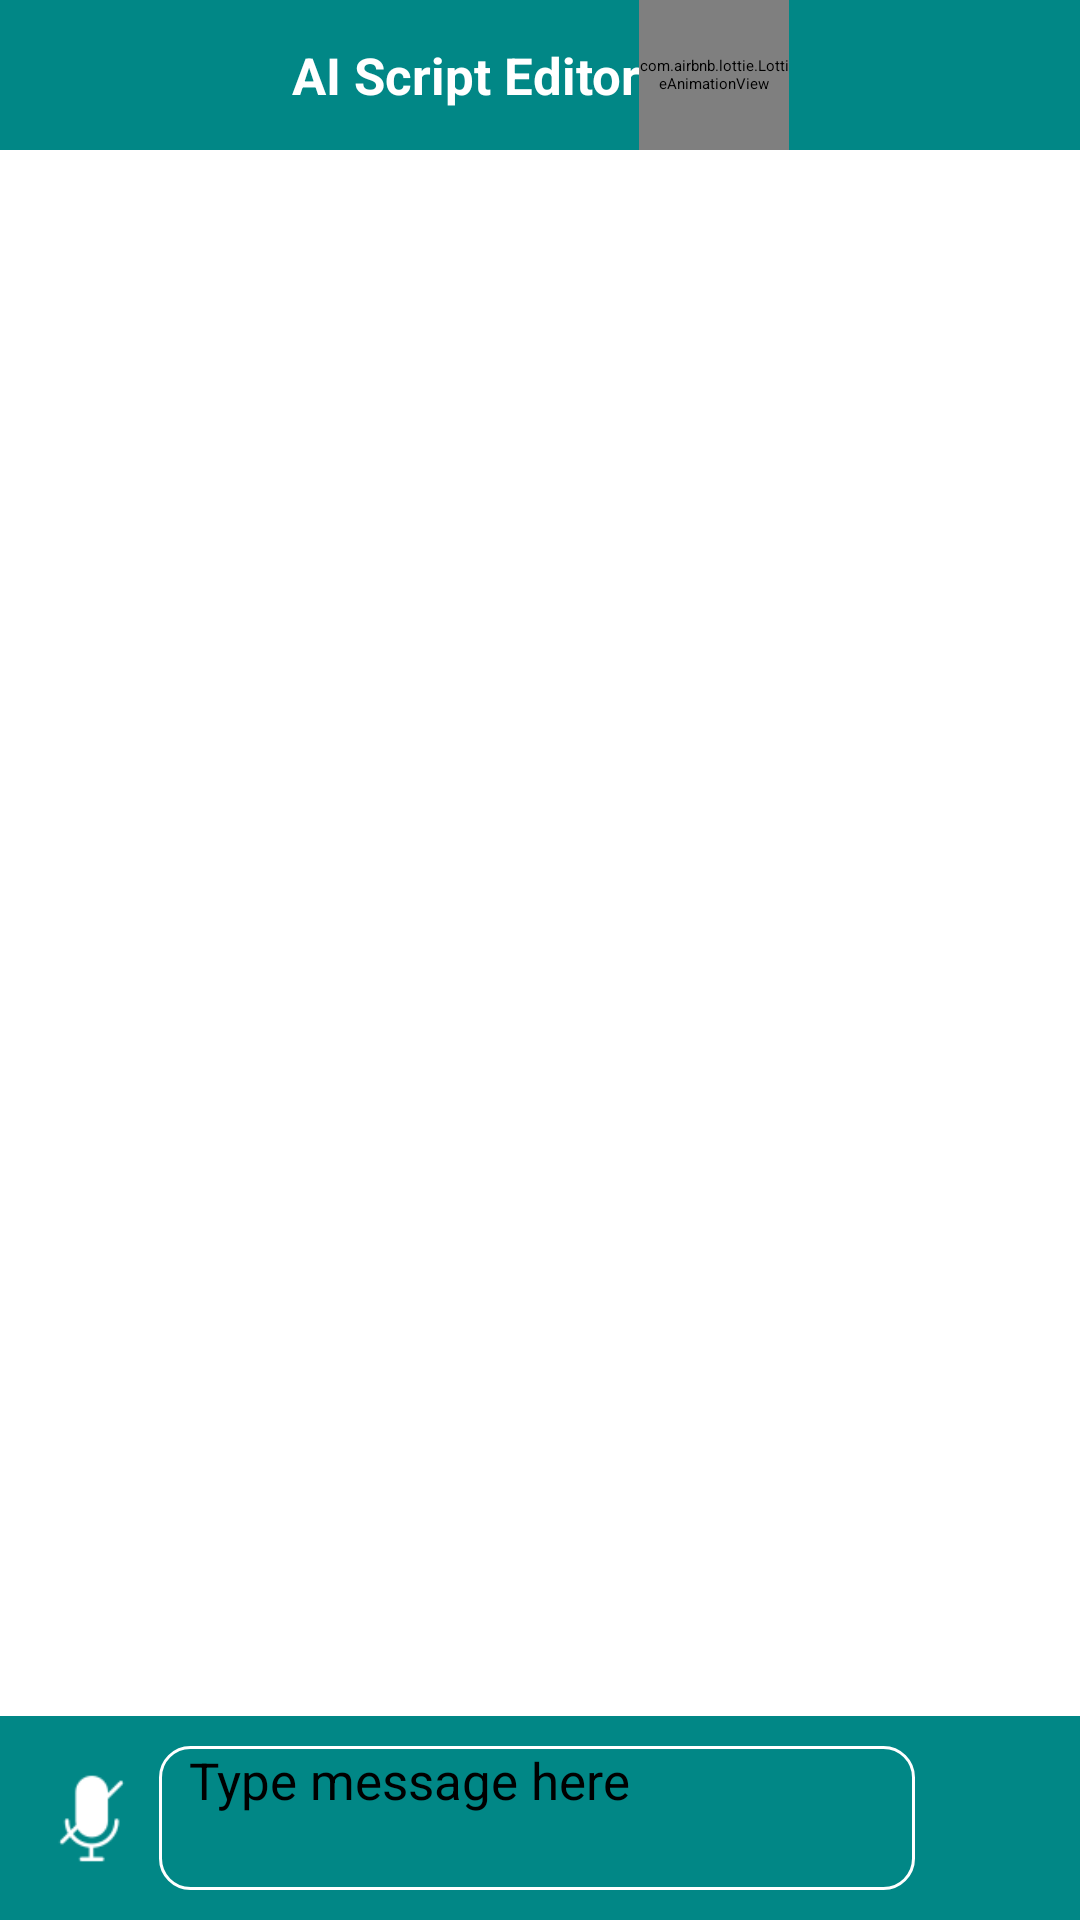

Point at icon controls on the screen. Image size 1080×1920, points as (x=x, y=y).
microphone off: (x=91, y=1818)
